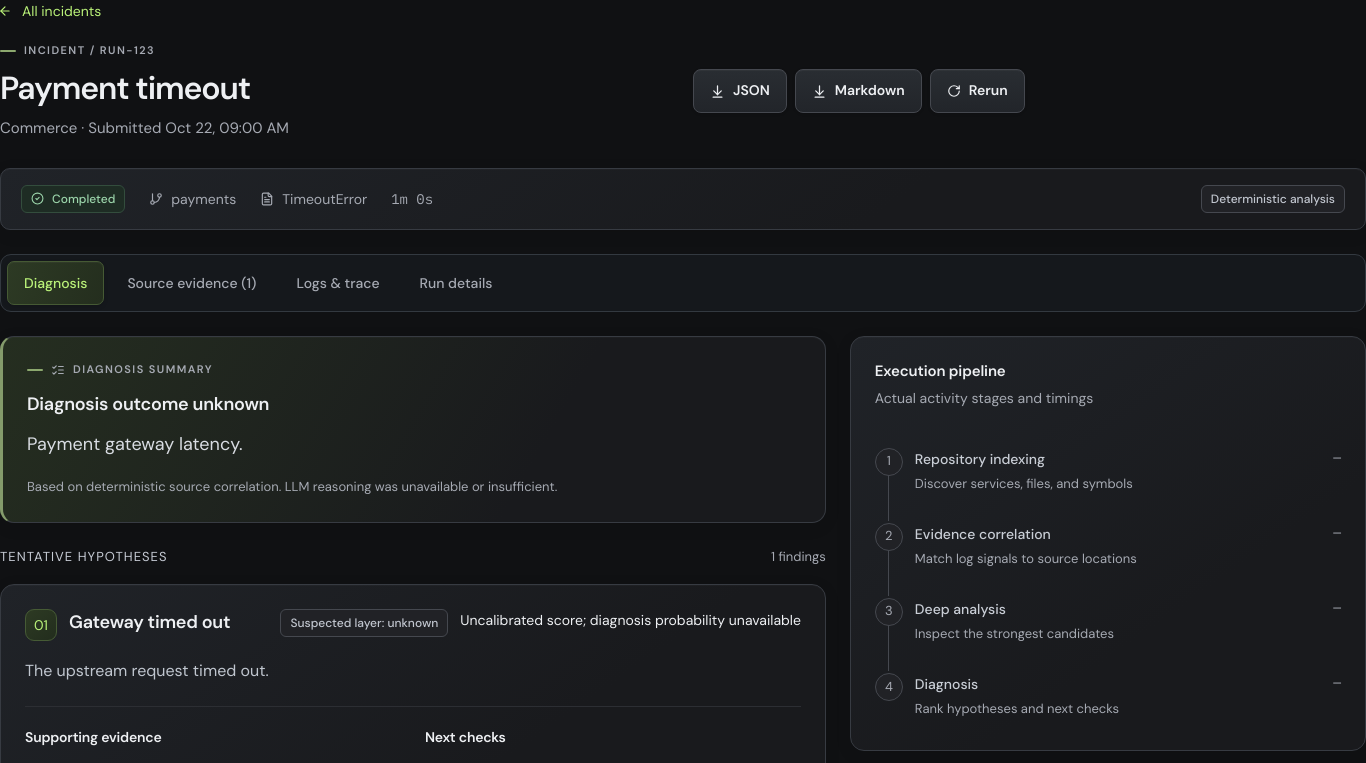
Test: dashboard workflows › keeps localization for 1 candidates in Source evidence only
Expected: the heading "Gateway timed out" is shown, [69,610,230,634]
Expected: the heading "Localization strength" is not shown
Click the tab "Source evidence (1)" at [192, 283], box [110,261,274,305]
(page scrolled)
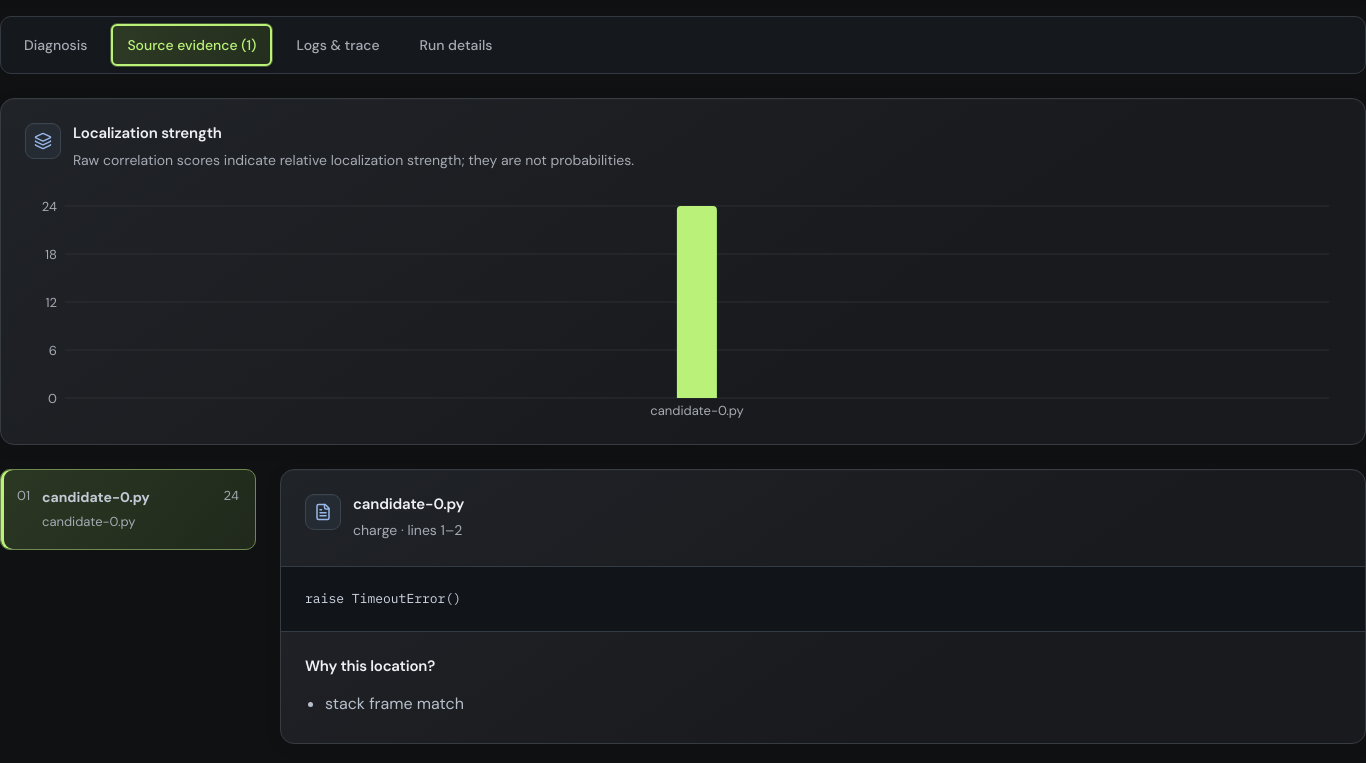
Now the heading "Localization strength" is shown, box [73,123,222,143]
Click the button "01 candidate-0.py candidate-0.py 24" at [128, 509], box [0,468,256,550]
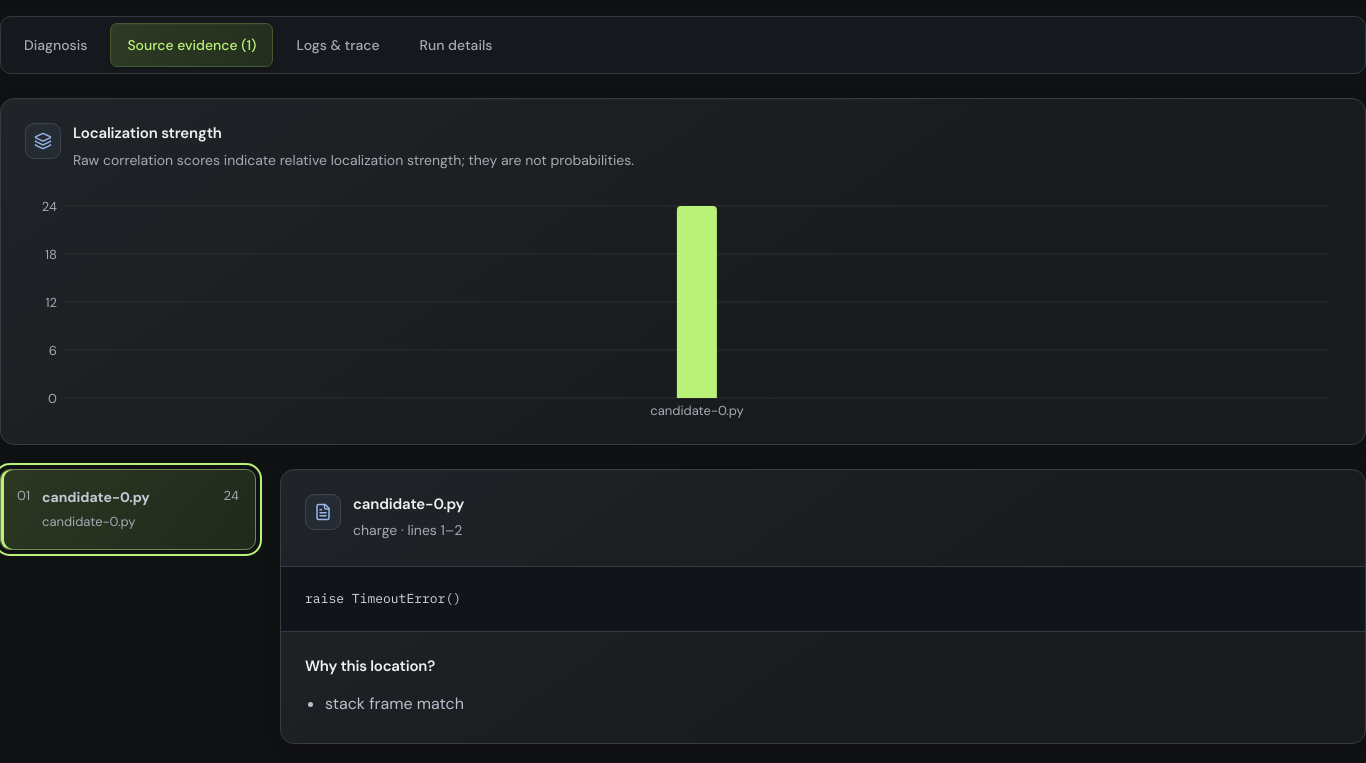
Now the list item "stack frame match" is shown, box [325,693,464,714]
Click the tab "Diagnosis" at [56, 45], box [7,23,104,67]
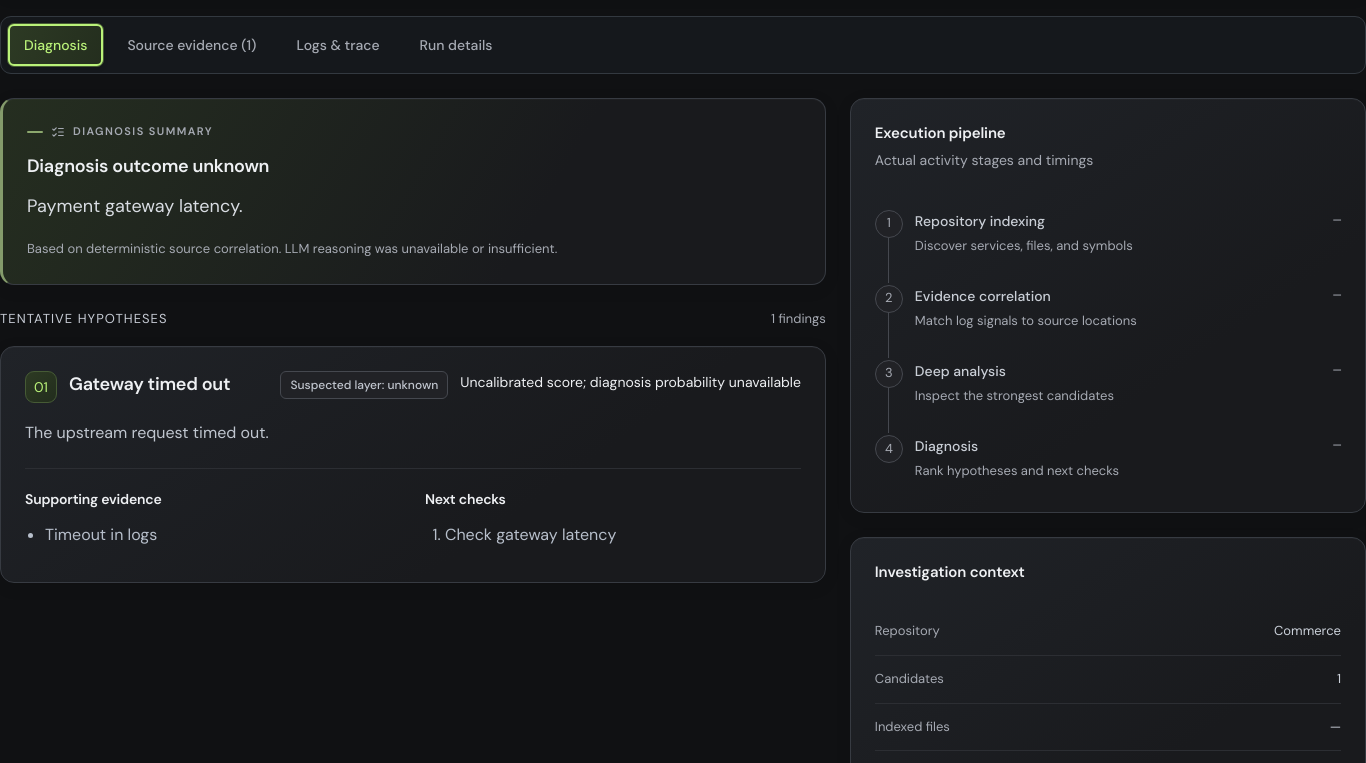
Now the heading "Localization strength" is gone
